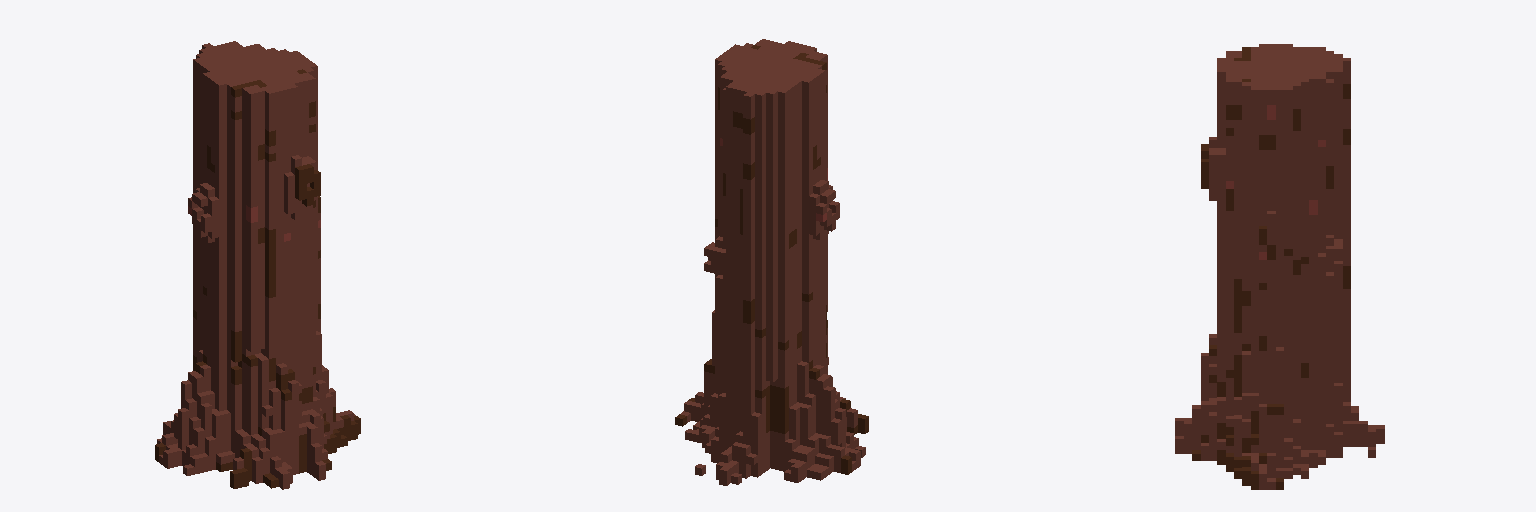
3 renders of one model, left to right at view 1: azimuth 30°, elevation 25°; view 2: azimuth 150°, elevation 25°; view 3: azimuth 270°, elevation 25°, orthographic.
Size of the model in its own units: 25 by 50 by 25.
Materials: 1 (1 with a texture image).